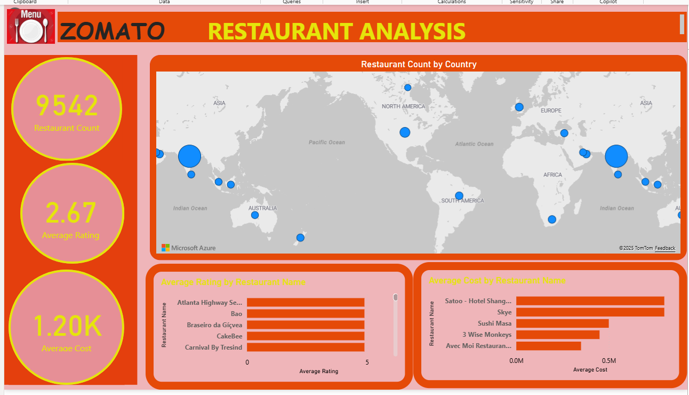

This screenshot's page, from the dashboard's own definition file:
{"tool":"powerbi","page":{"name":"Page 1","canvas":[1280,720],"ordinal":0},"visuals":[{"type":"shape","box":[0,94,249,617],"z":0},{"type":"shape","box":[8.1,495.2,216.7,215.8],"z":1000},{"type":"shape","box":[12.5,97.6,207.8,194.3],"z":2000},{"type":"shape","box":[29.6,295.5,195.2,189],"z":3000},{"type":"card","fields":{"Values":["  Measures.Average Cost"]},"box":[33.1,553.4,167.5,100.3],"z":4000},{"type":"card","fields":{"Values":["  Measures.Average Rating"]},"box":[65.4,338.5,119.1,107.5],"z":5000},{"type":"card","fields":{"Values":["  Measures.Restaurant Count"]},"box":[50.1,138.8,134.3,105.7],"z":6000},{"type":"clusteredBarChart","fields":{"Category":["Restaurants.Restaurant Name"],"Y":["  Measures.Average Cost"]},"box":[766.2,481.5,513.3,236.2],"z":7000},{"type":"actionButton","box":[0,0,100,40],"z":8000},{"type":"clusteredBarChart","fields":{"Category":["Restaurants.Restaurant Name"],"Y":["  Measures.Average Rating"]},"box":[265.1,484.5,501.5,235.5],"z":9000},{"type":"image","box":[0,0,100.3,81.5],"z":10000},{"type":"textbox","box":[100.3,13.4,1179.4,57.3],"z":11000},{"type":"azureMap","fields":{"Category":["Country Master.Country"],"Size":["  Measures.Restaurant Count"]},"box":[273.1,94,1006.4,383.9],"z":12000}]}

Visuals, with their boxes in screenshot pixels (x1, y1, x2, y2):
shape: bbox=(2, 53, 134, 381)
shape: bbox=(6, 266, 121, 381)
shape: bbox=(8, 55, 119, 159)
shape: bbox=(18, 160, 121, 261)
card -   Measures.Average Cost: bbox=(19, 297, 108, 351)
card -   Measures.Average Rating: bbox=(37, 183, 100, 240)
card -   Measures.Restaurant Count: bbox=(28, 77, 100, 133)
clusteredBarChart - Restaurants.Restaurant Name x   Measures.Average Cost: bbox=(409, 259, 681, 385)
actionButton: bbox=(2, 4, 55, 25)
clusteredBarChart - Restaurants.Restaurant Name x   Measures.Average Rating: bbox=(143, 261, 409, 386)
image: bbox=(2, 4, 55, 47)
textbox: bbox=(55, 11, 681, 41)
azureMap - Country Master.Country x   Measures.Restaurant Count: bbox=(147, 53, 681, 257)
